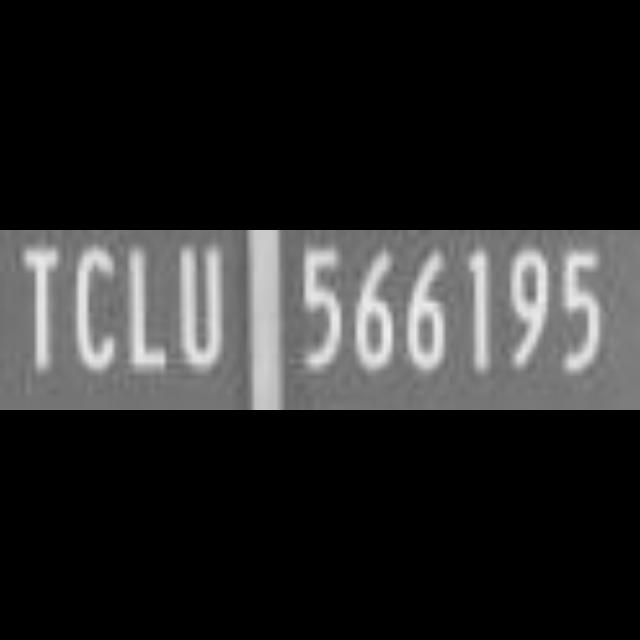1: (461, 230, 502, 386)
5: (554, 231, 612, 387), (289, 230, 345, 380)
6: (403, 230, 457, 386), (350, 230, 400, 380)
9: (501, 230, 552, 380)
c: (70, 231, 122, 387)
l: (121, 230, 175, 384)
t: (15, 230, 70, 380)
u: (175, 230, 228, 384)
